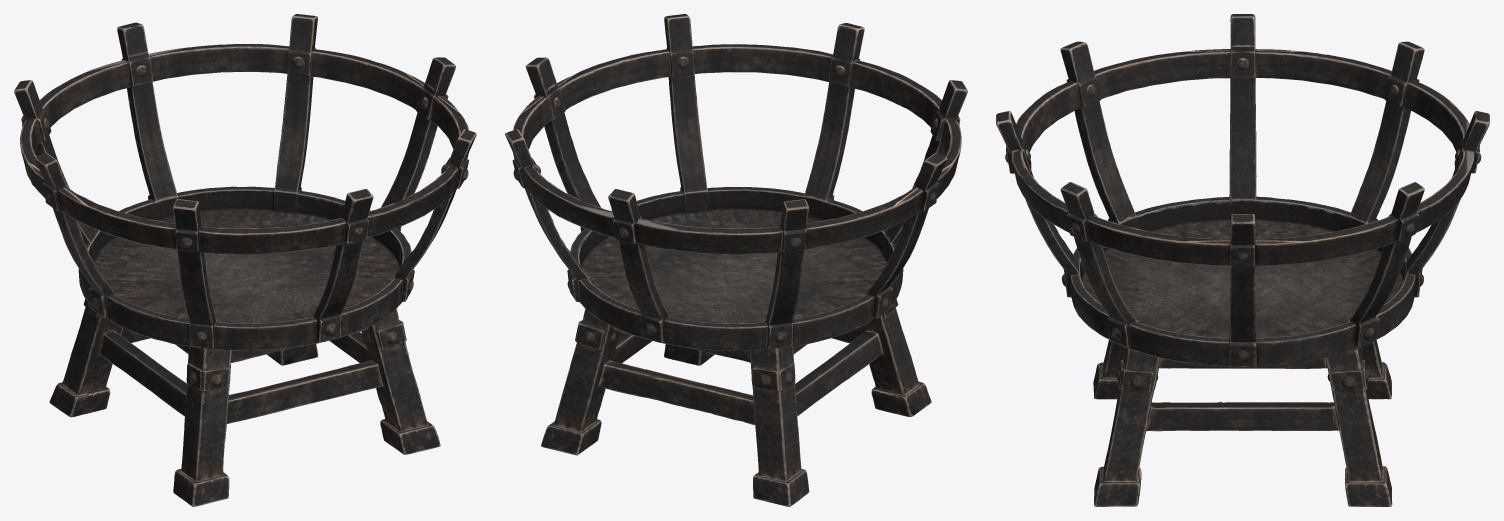
The model's file is brazier.glb.
3 views of the same model, side by side, from view 1: azimuth 30°, elevation 25°; view 2: azimuth 150°, elevation 25°; view 3: azimuth 270°, elevation 25° (orthographic). The views are drawn at different scales.
Parts seen in each view (by area): view 1: Brazier forged iron; view 2: Brazier forged iron; view 3: Brazier forged iron.
Boxes of the visible parts, bbox=[...] form: Brazier forged iron: bbox=[14, 14, 476, 506]; Brazier forged iron: bbox=[505, 14, 967, 506]; Brazier forged iron: bbox=[996, 14, 1489, 506].
Bounding box in the file's own units: 1.36 × 1 × 1.36.
1 material, 1 textured.
